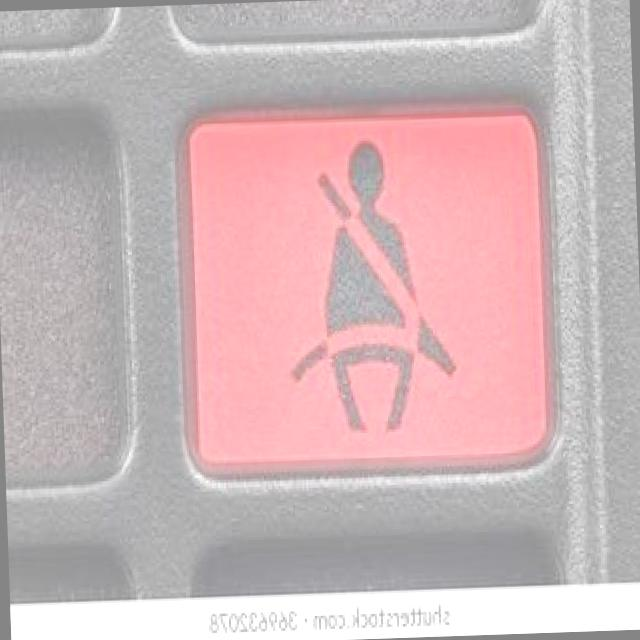kontrolka: (261, 118, 488, 450)
